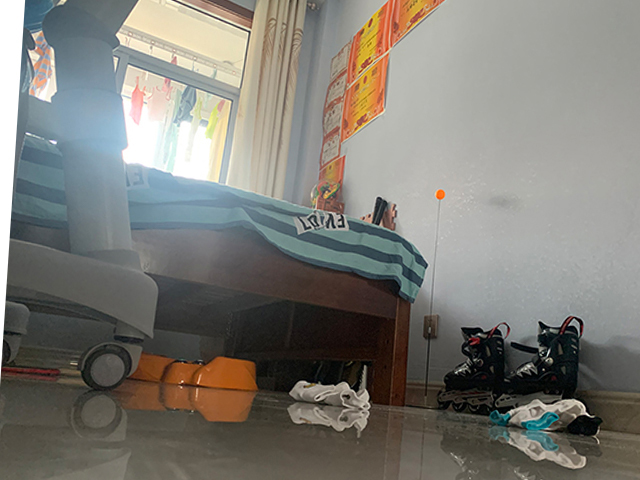bed: (15, 136, 428, 407)
socks: (489, 397, 603, 437), (289, 380, 372, 409)
